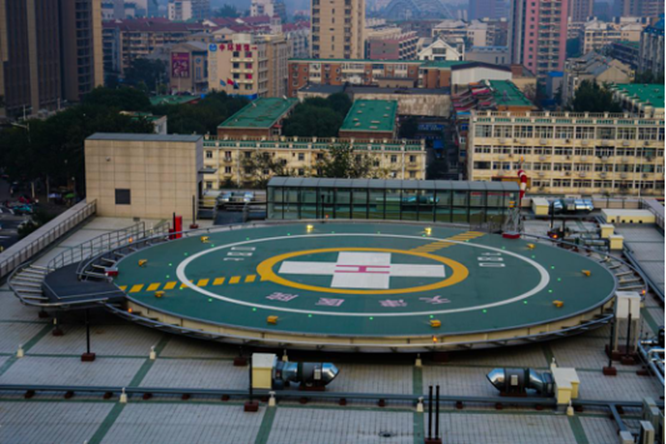Apron: (255, 245, 468, 295)
